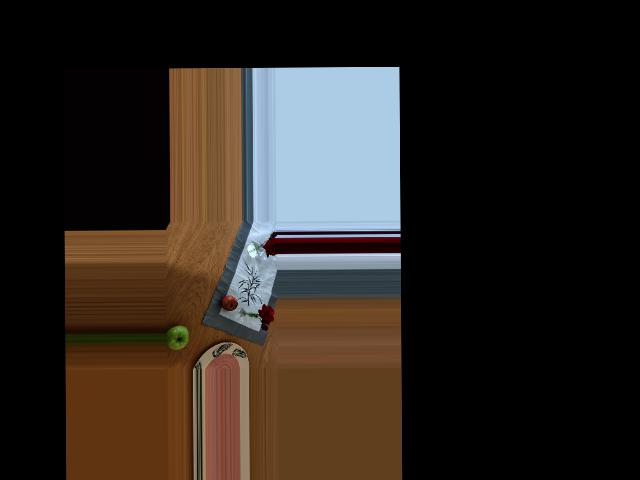apple: (165, 324, 190, 351)
